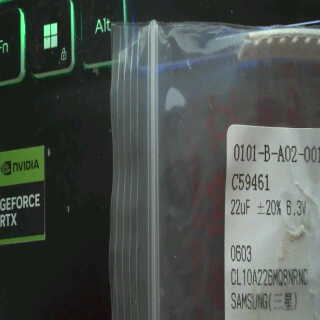22uF: (228, 197, 252, 218)
